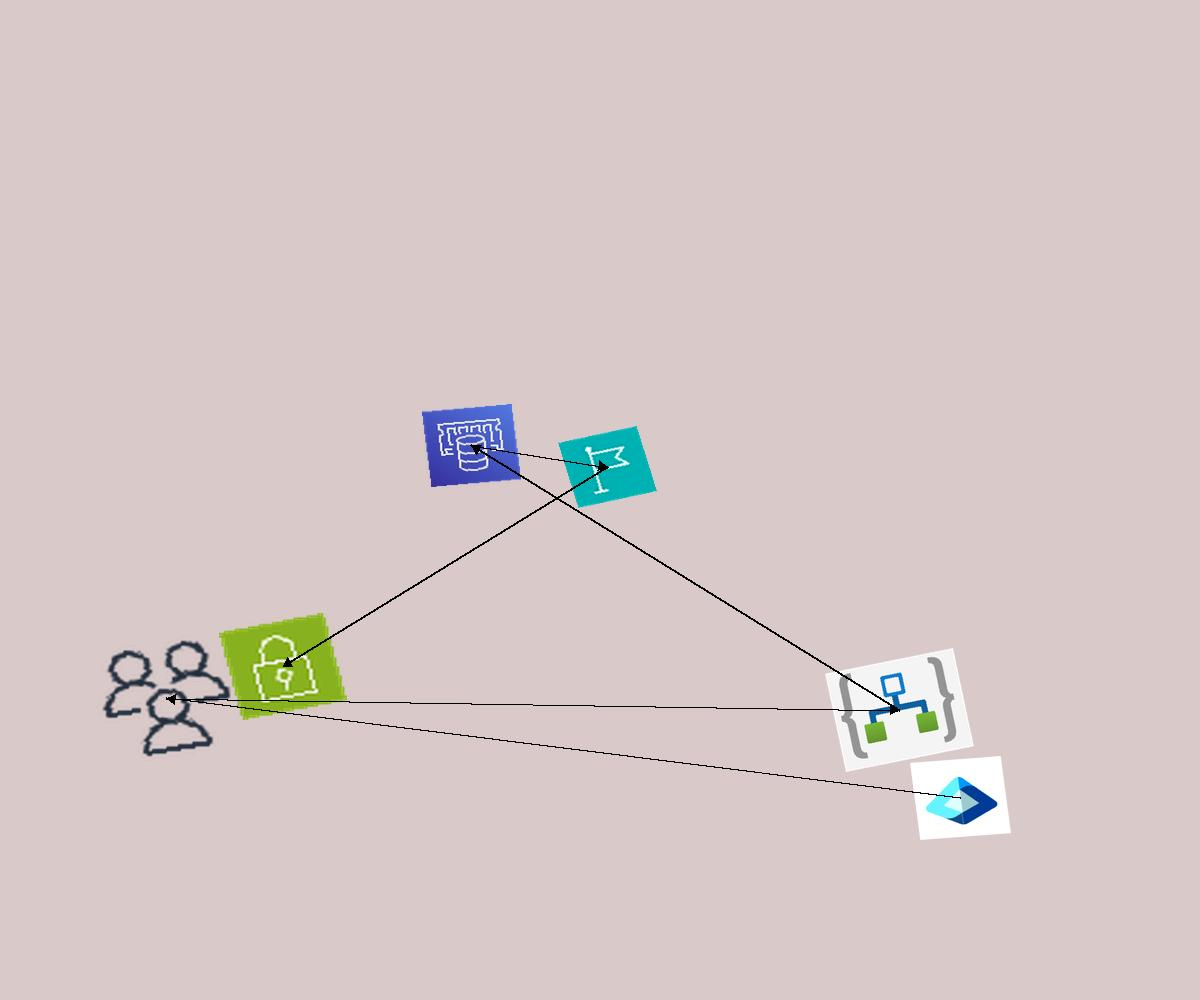AWS-ElastiCache: (422, 404, 521, 487)
AWS-Public-subnet: (219, 613, 347, 720)
AWS-Region: (558, 426, 657, 508)
AWS-Res_Users: (83, 629, 250, 768)
Azure_integration-204-Logic-Apps: (825, 648, 974, 772)
Azure_microsoft_entra: (910, 756, 1011, 840)
